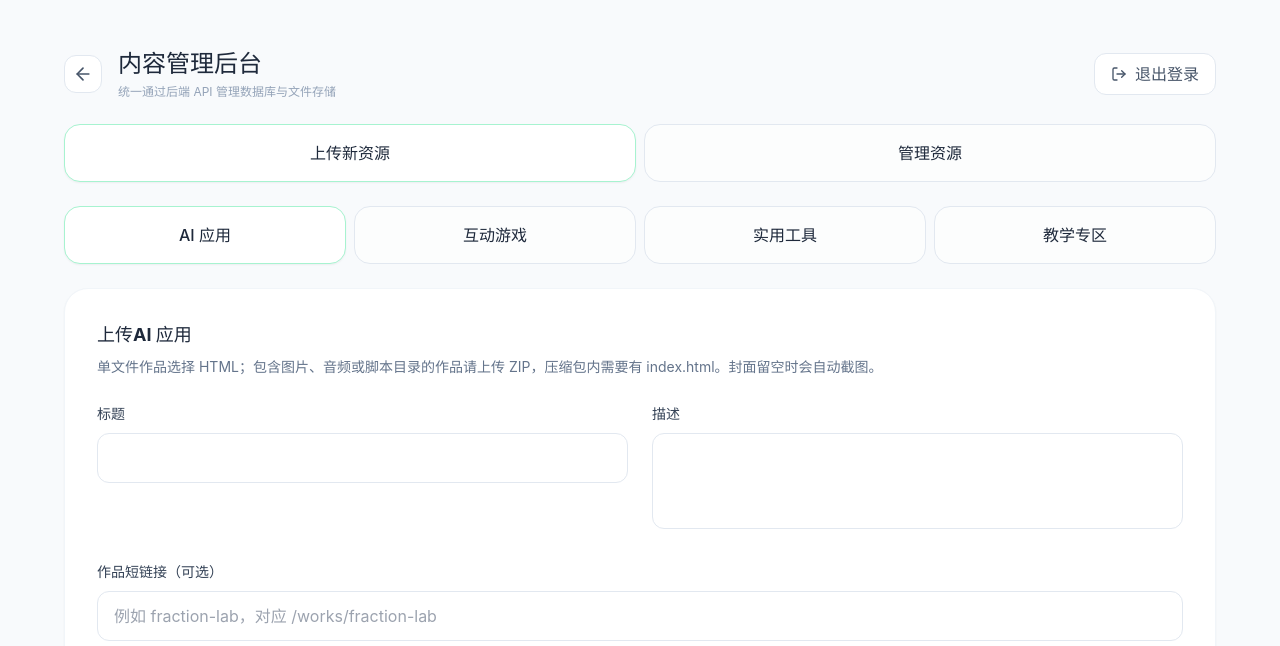
Test case: AdminUpload › adds an HTTPS official link without uploading a file
expect the 2nd heading is shown: met, box [97,324,192,345]
Click the button "教学专区" at x=1075, y=235, box [934,206,1216,264]
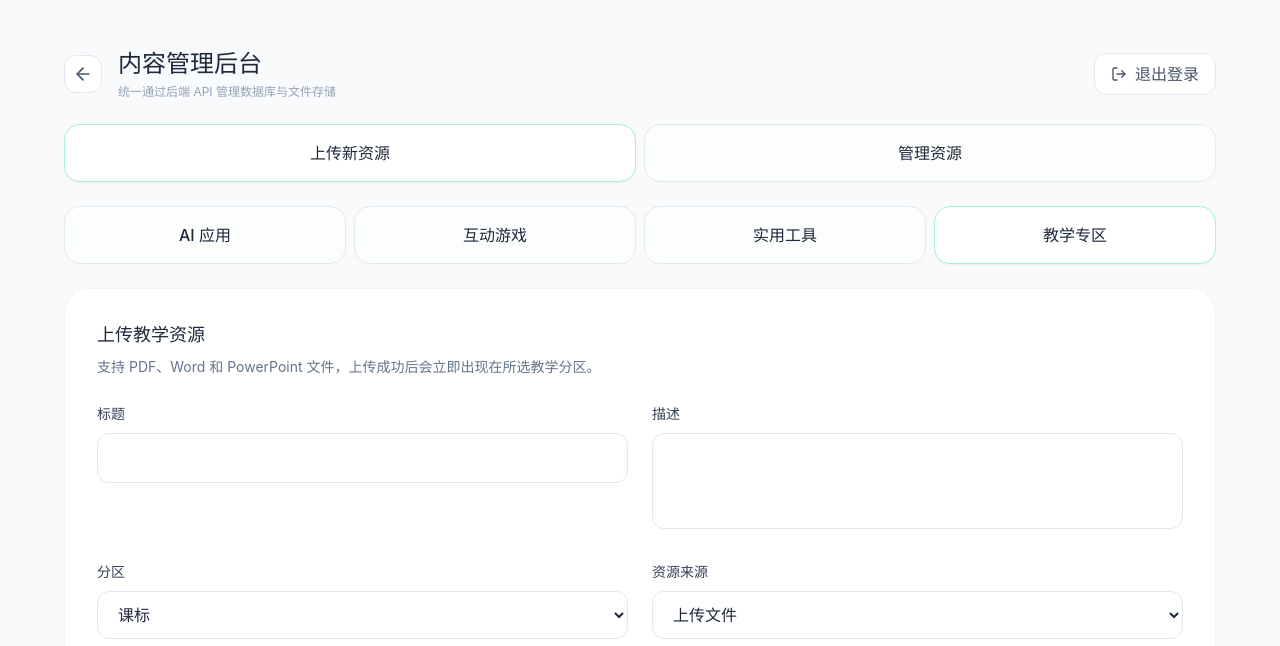
Type "义务教育数学课程标准" into the field labelled "标题" at x=362, y=458, box [97,433,628,483]
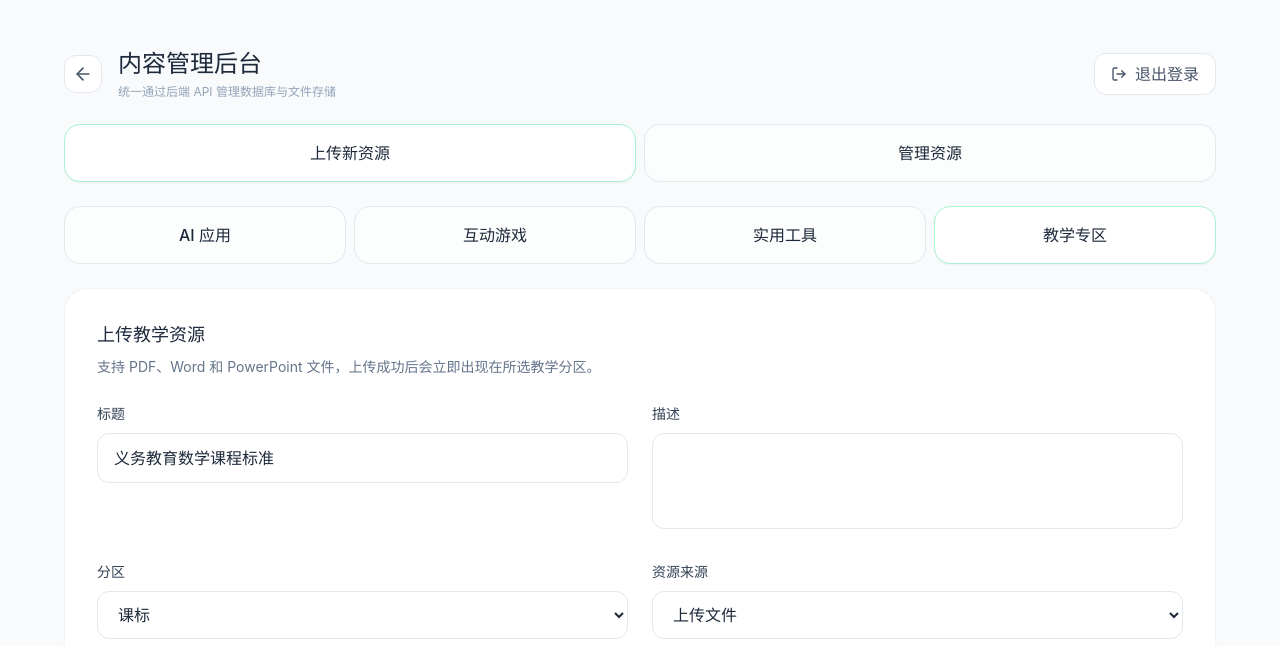
Type "教育部正式发布版本" into the text box labelled "描述" at x=918, y=481, box [652,433,1183,529]
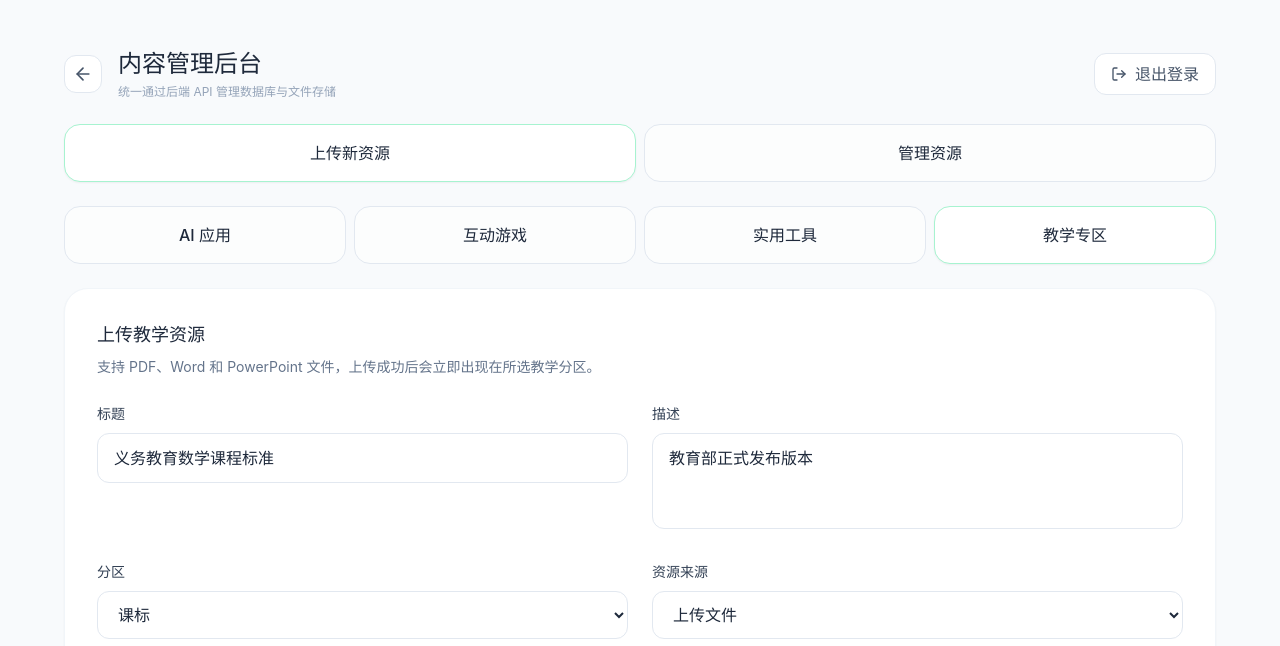
Select "官方外链" in the dropdown labelled "资源来源" at x=918, y=615, box [652,591,1183,639]
(page scrolled)
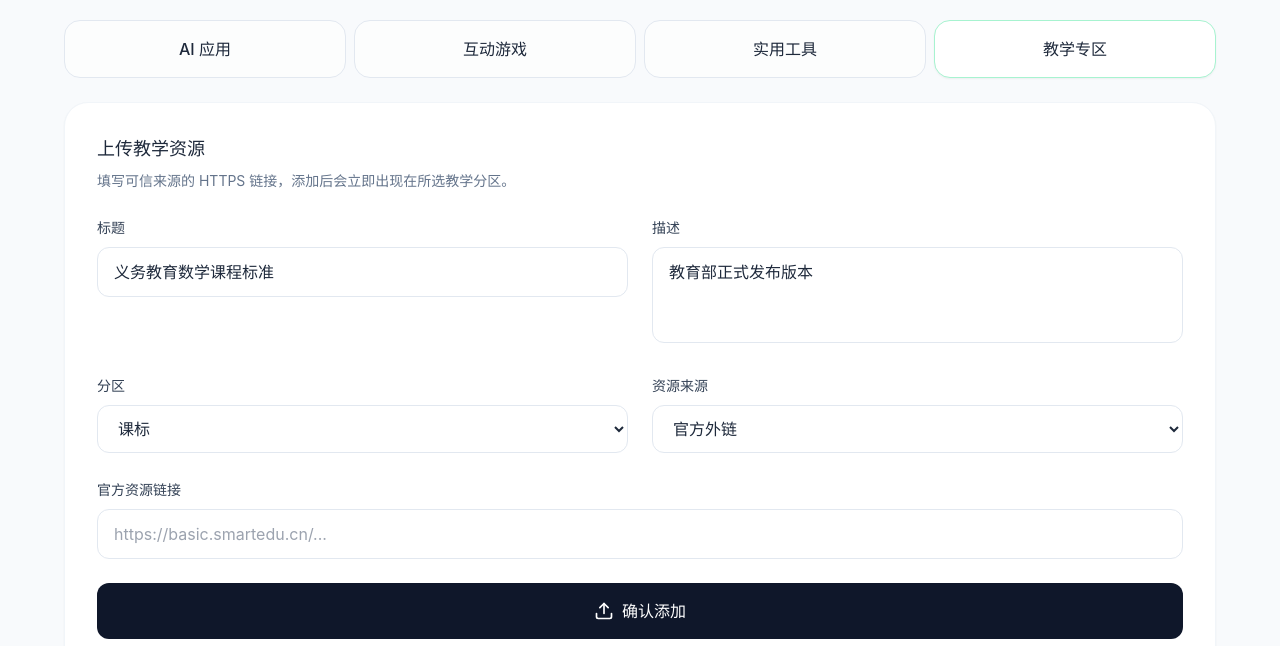
Type "https://www.moe.gov.cn/math-standard.pdf" into the field labelled "官方资源链接" at x=640, y=534, box [97,509,1183,559]
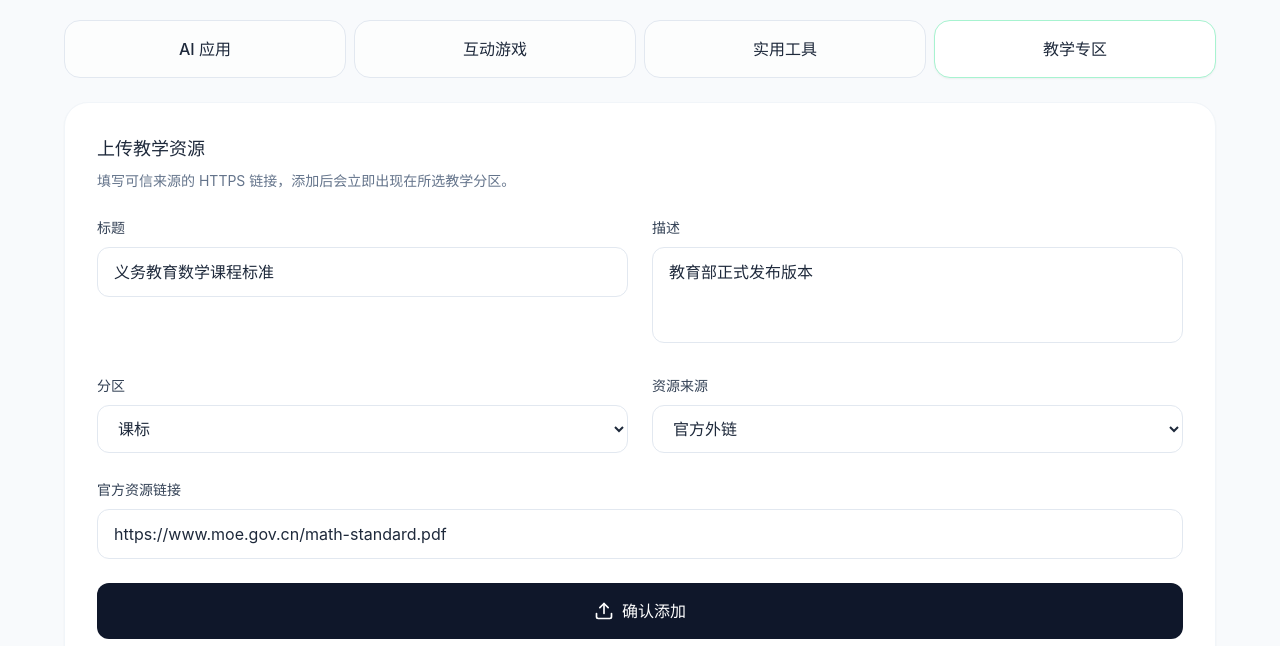
Submit the form, box [97,215,1183,639]
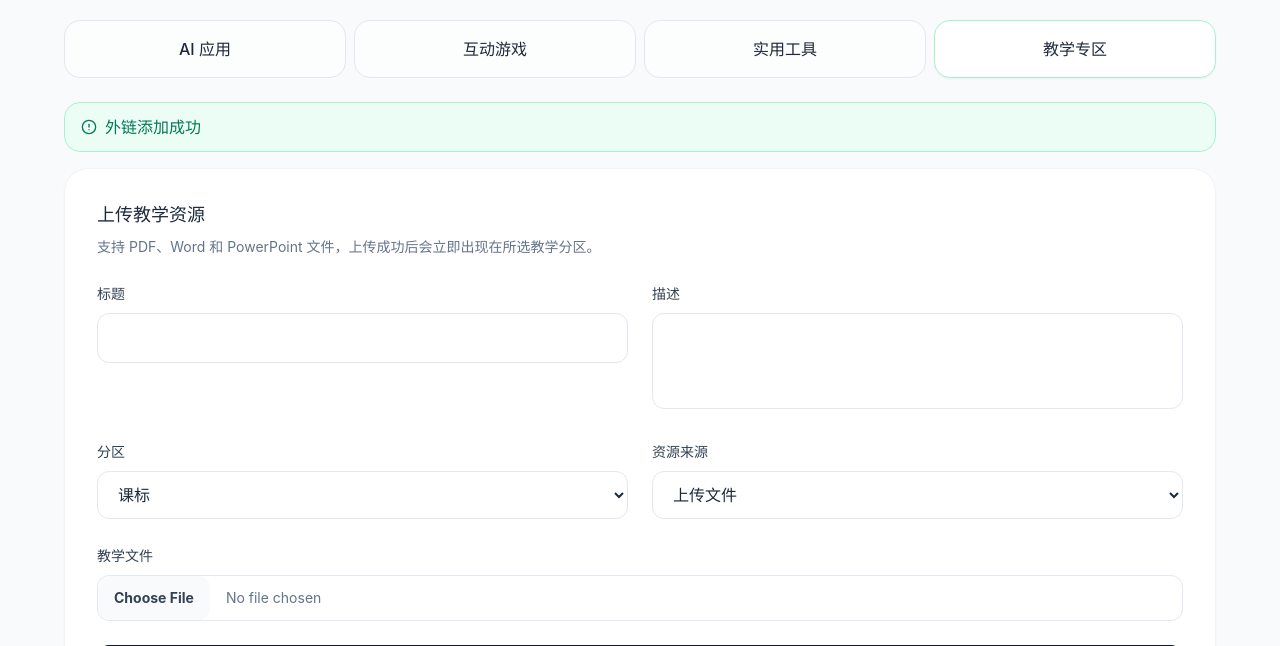
expect the text "外链添加成功" is shown: met, box [64,102,1216,152]
